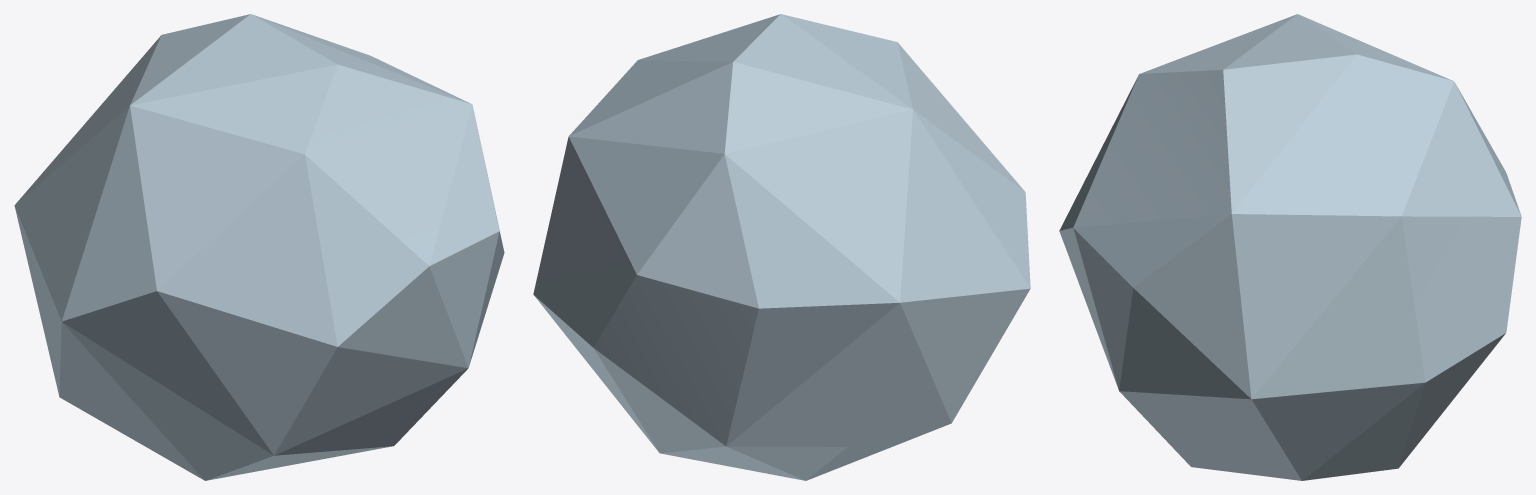
The model's file is small_cloud_31.fbx.
The picture shows the model from 3 angles, left to right: view 1: azimuth 30°, elevation 25°; view 2: azimuth 150°, elevation 25°; view 3: azimuth 270°, elevation 25°; orthographic projection.
Parts seen in each view (by area): view 1: cloud_1; view 2: cloud_1; view 3: cloud_1.
Part boxes in pixels (x1,y1,x2,y2): cloud_1: (14, 14, 504, 480); cloud_1: (533, 14, 1030, 480); cloud_1: (1059, 14, 1521, 480).
Bounding box in the file's own units: 223 × 200 × 202.
